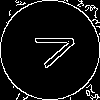V: (25, 25, 80, 72)
